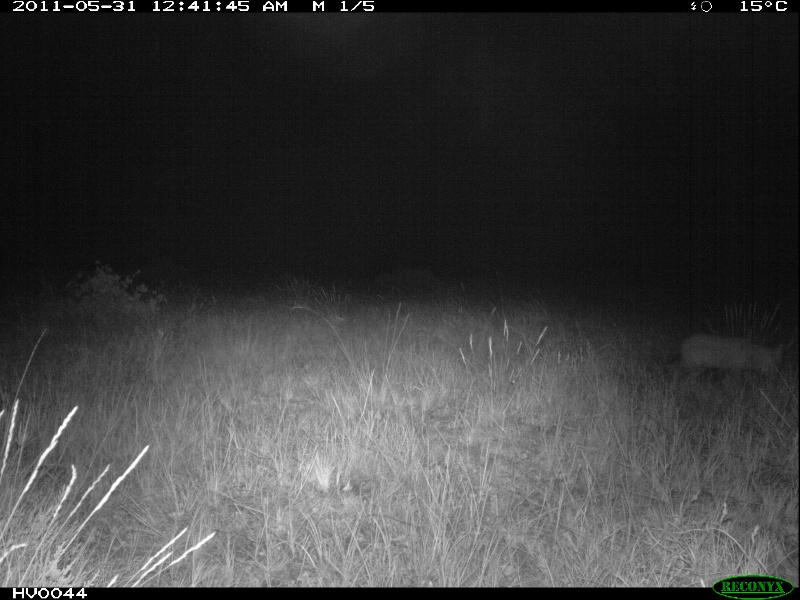fox: (663, 326, 795, 377)
